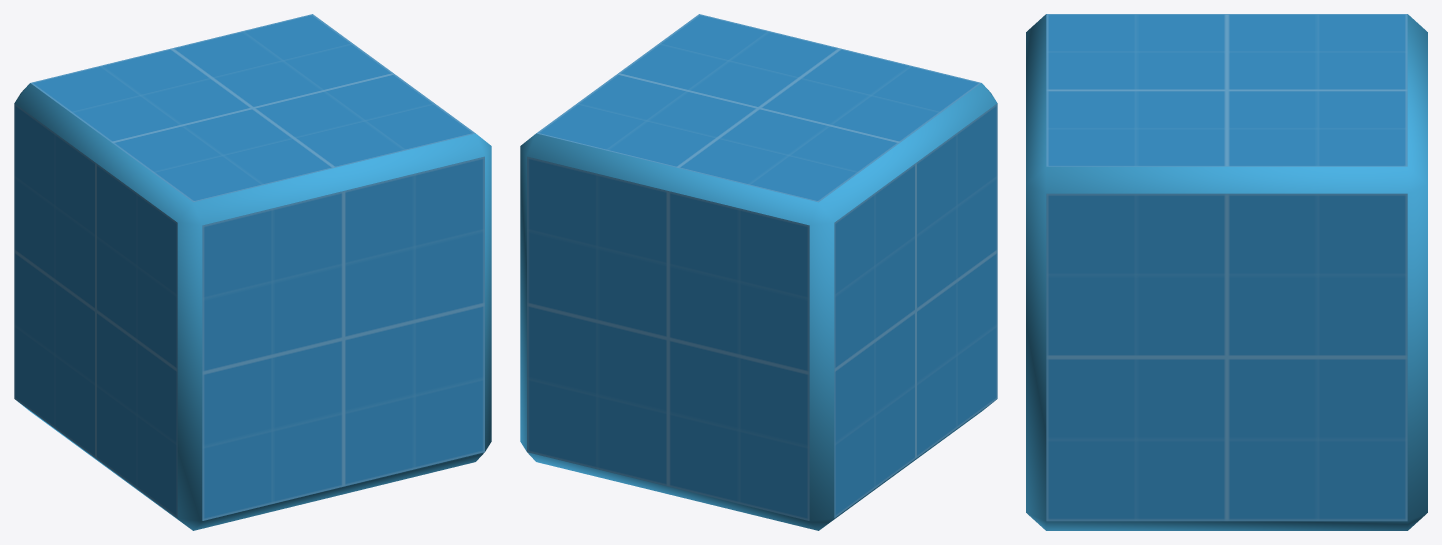
The model's file is Cube_Prototype_Small.glb.
The picture shows the model from 3 angles, left to right: view 1: azimuth 30°, elevation 25°; view 2: azimuth 150°, elevation 25°; view 3: azimuth 270°, elevation 25°; orthographic projection. The views are drawn at different scales.
Parts seen in each view (by area): view 1: Cube_Prototype_Small; view 2: Cube_Prototype_Small; view 3: Cube_Prototype_Small.
Boxes of the visible parts, x1,y1,x2,y2 form: Cube_Prototype_Small: [14, 14, 491, 530]; Cube_Prototype_Small: [520, 14, 997, 530]; Cube_Prototype_Small: [1026, 14, 1427, 530].
Size of the model in its own units: 2 by 2 by 2.
1 material, 1 textured.
